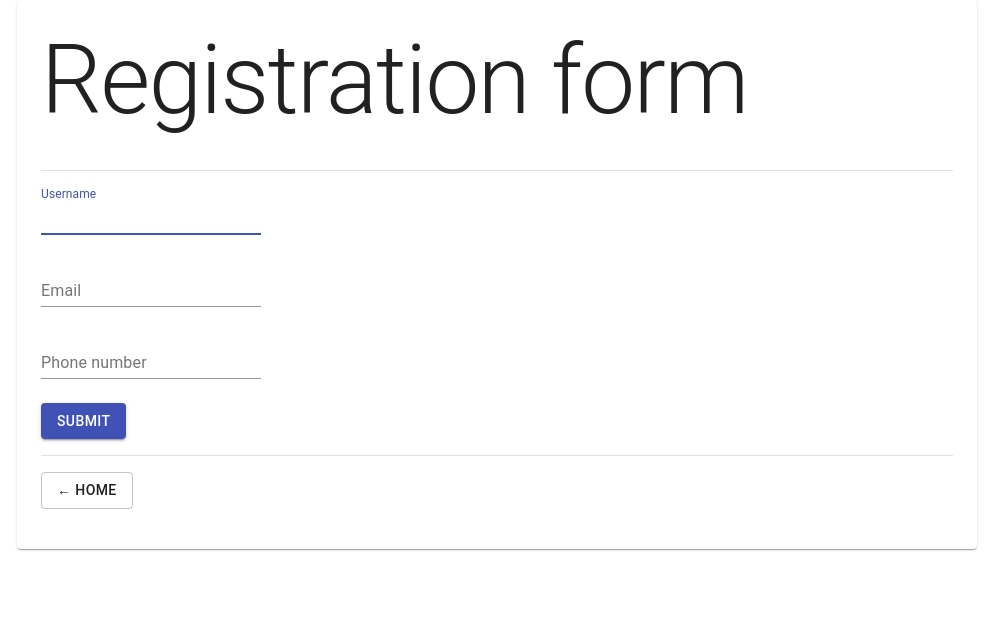
Scenario: form on submit › should display generic error message due to API failure
The width and height of the screenshot is (995, 632).
Type "userName" into the field labelled "Username".
click(151, 219); type("userName")  # box 41,203 -> 261,235
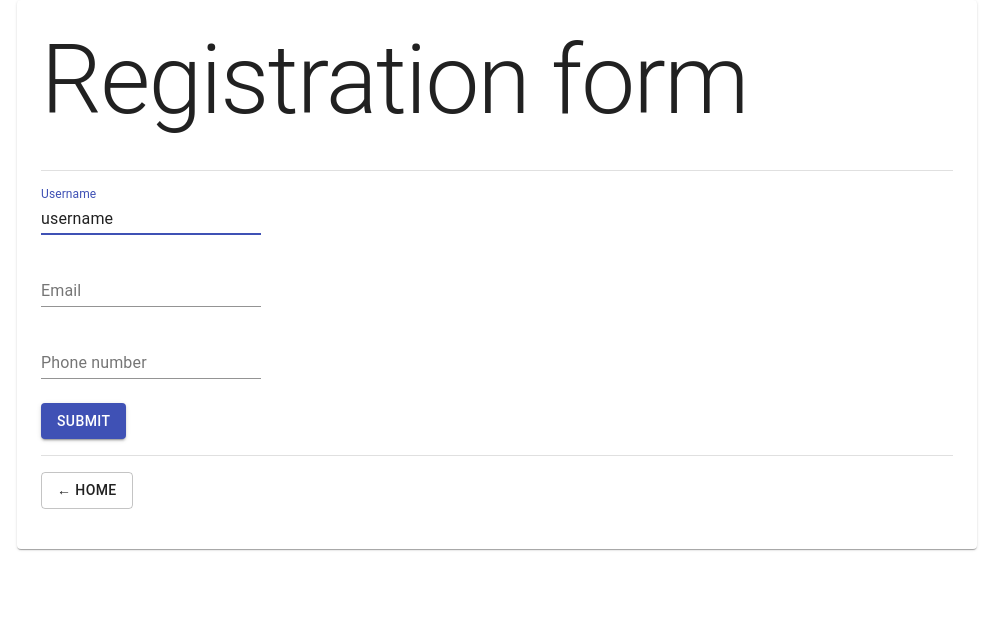
Type "abc@abc.de" into the field labelled "Email".
click(151, 291); type("abc@abc.de")  # box 41,275 -> 261,307
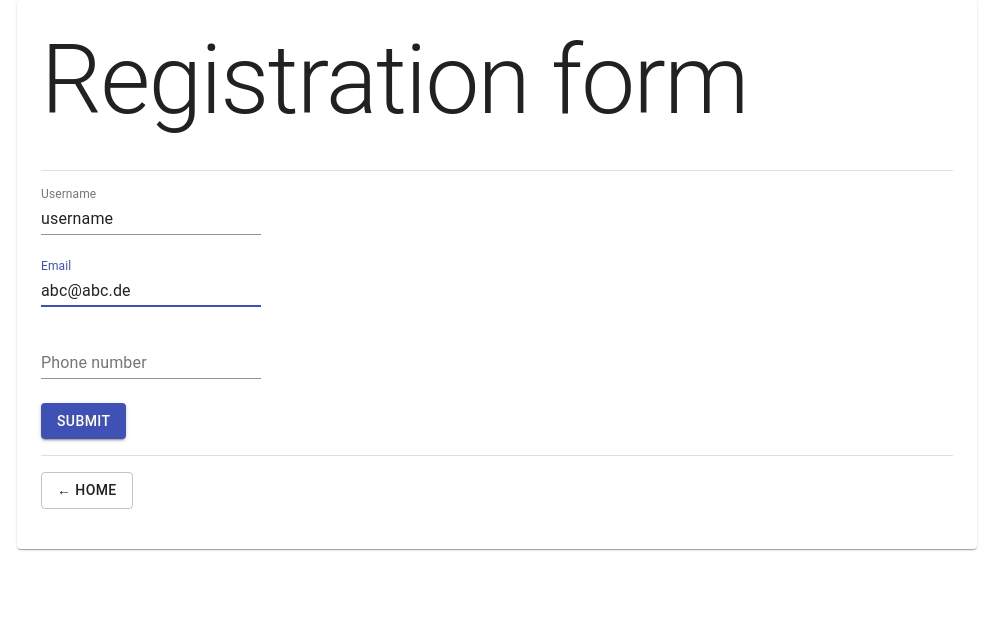
Type "3121231234" into the field labelled "Phone number".
click(151, 363); type("3121231234")  # box 41,347 -> 261,379
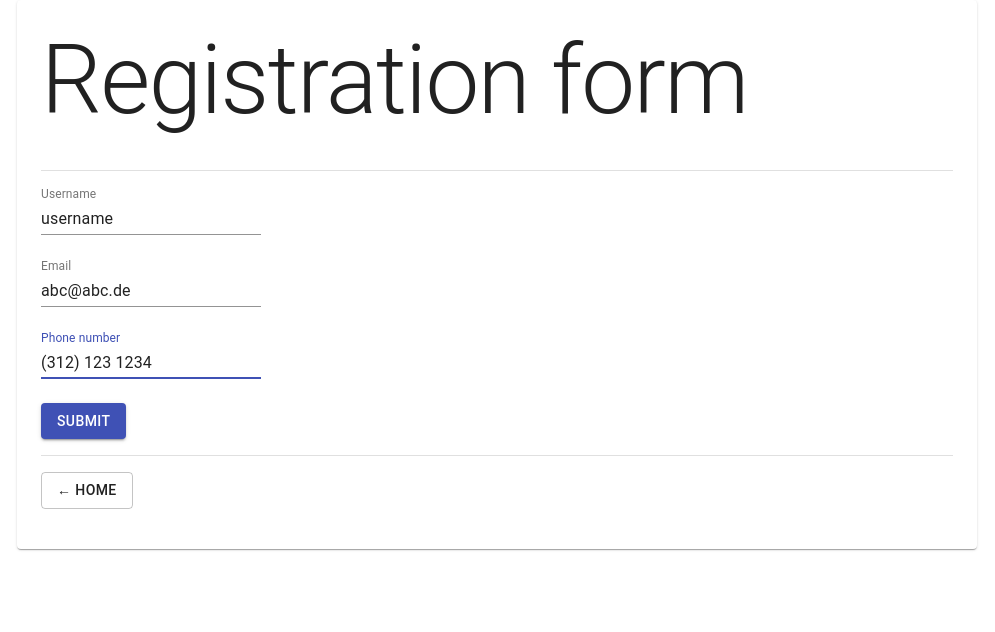
Click the button "Submit".
click(84, 421)  # box 41,403 -> 126,439
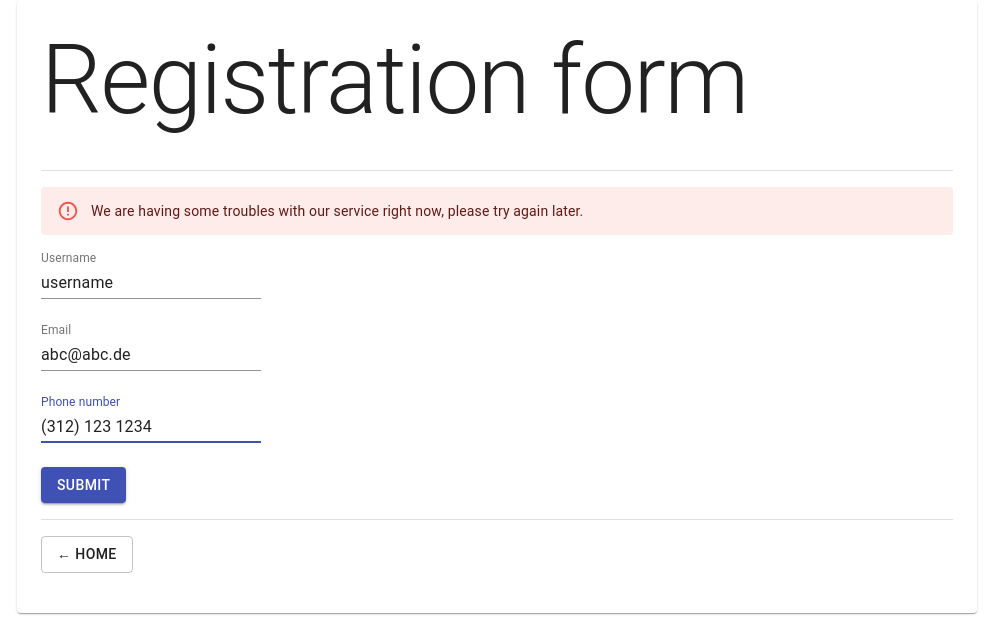
Expected: the text "We are having some troubles with our service right now, please try again later." is shown, 91,203 -> 583,219
